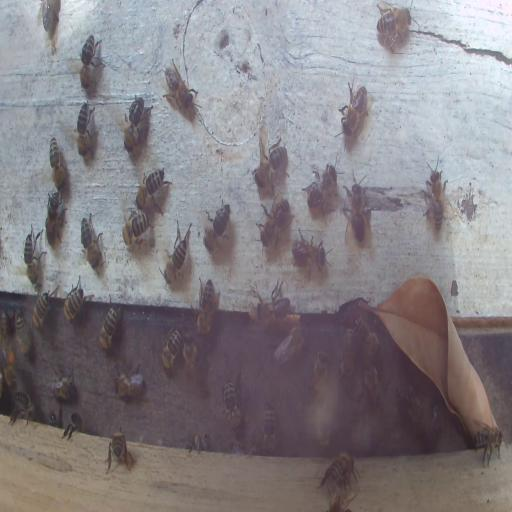bee: (336, 76, 373, 145), (254, 184, 290, 254), (162, 58, 198, 118), (342, 178, 374, 244), (422, 156, 448, 233), (292, 229, 328, 281), (375, 4, 415, 50), (317, 453, 359, 494), (135, 167, 172, 213), (122, 93, 148, 156), (166, 218, 192, 280), (203, 202, 232, 256), (74, 98, 97, 166), (252, 144, 287, 188), (78, 33, 104, 92), (474, 421, 506, 468), (196, 277, 220, 337), (274, 318, 304, 366), (23, 224, 46, 286), (302, 165, 329, 215), (62, 275, 90, 323), (44, 189, 66, 249), (80, 214, 103, 271), (98, 296, 122, 350), (356, 314, 384, 360), (397, 386, 428, 427), (252, 291, 289, 325), (221, 379, 245, 429), (121, 210, 150, 248), (106, 429, 131, 472), (312, 347, 330, 406), (48, 137, 66, 194), (338, 327, 357, 381), (160, 326, 182, 372), (38, 0, 60, 46), (114, 365, 144, 398), (1, 341, 20, 391), (32, 290, 53, 330), (46, 374, 75, 402), (10, 392, 34, 425), (16, 307, 30, 358), (365, 363, 380, 407), (186, 430, 212, 454), (182, 336, 198, 375), (62, 412, 84, 439), (264, 400, 276, 444), (49, 409, 60, 426)
